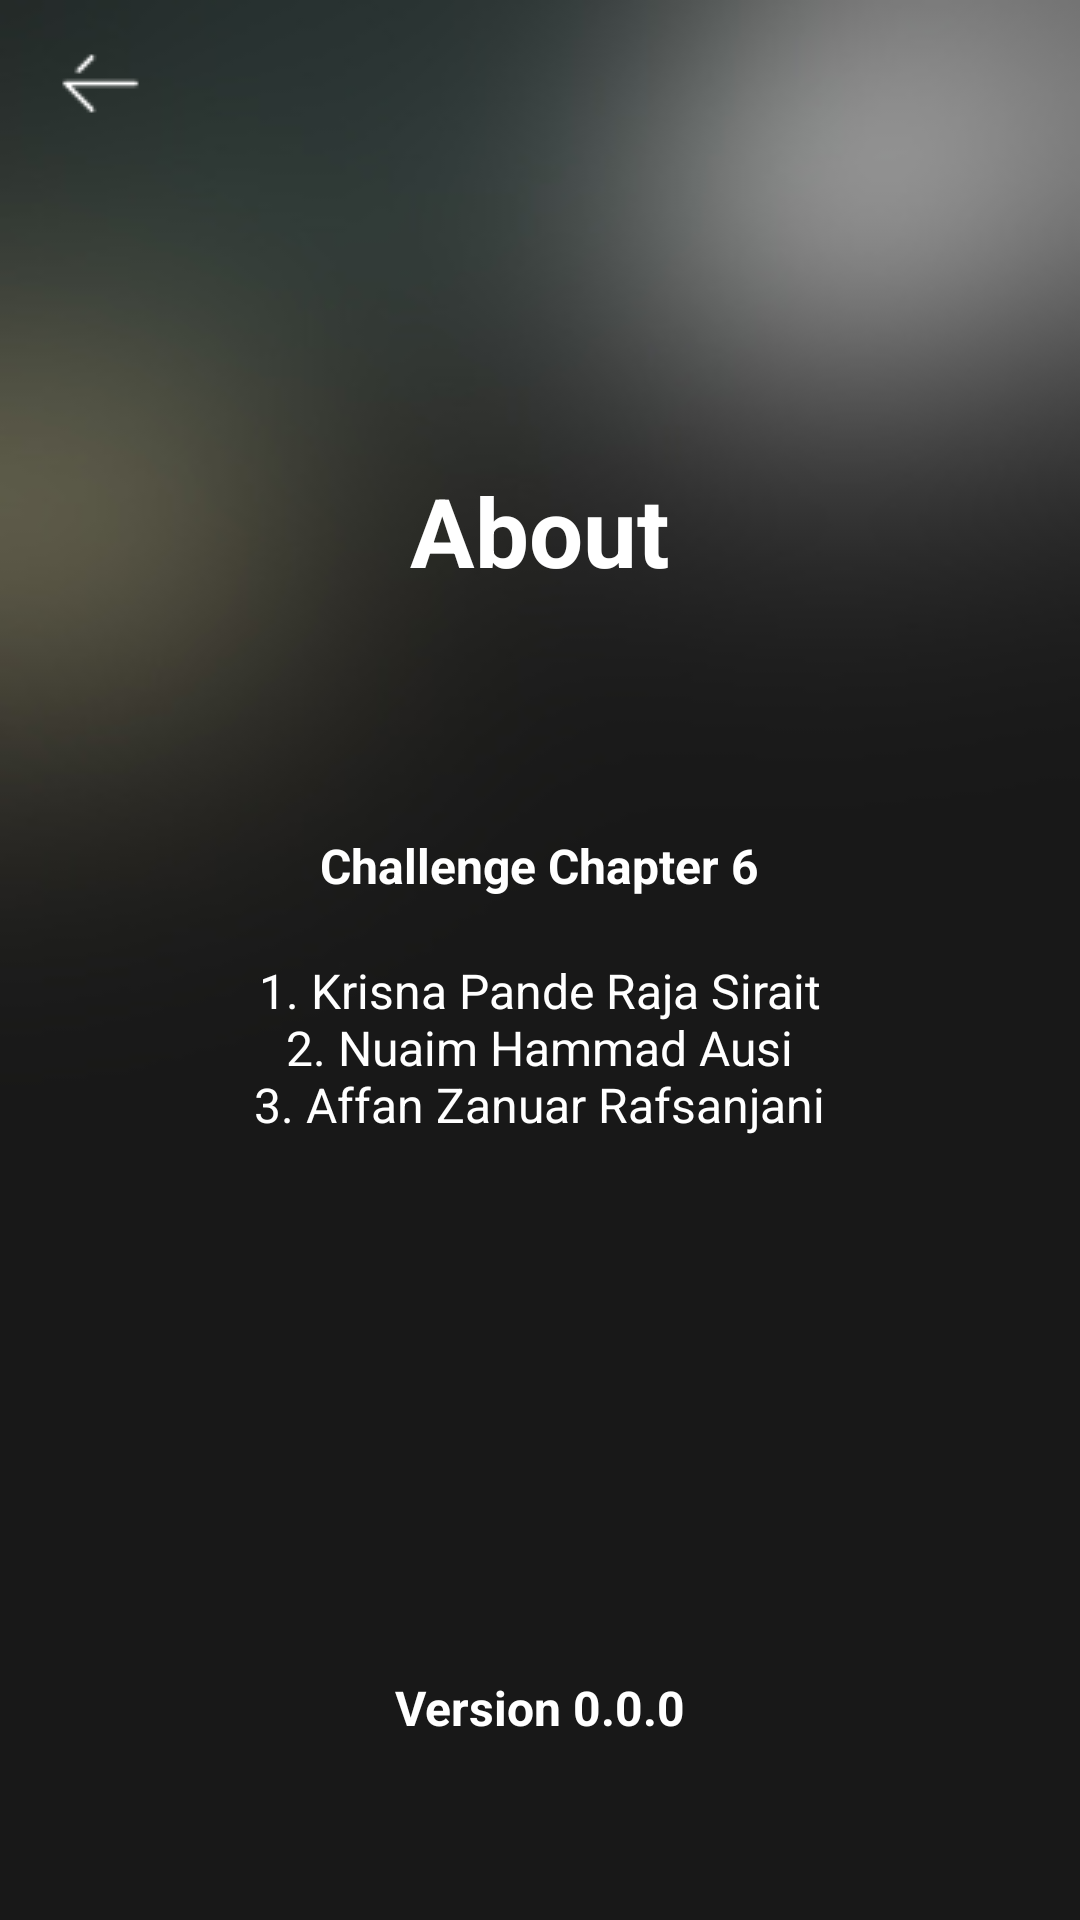

Icon bounding boxes for this 1080 × 1920 phone screenshot, format (x1, y1, x2, y2):
arrow left: (62, 54, 139, 113)
